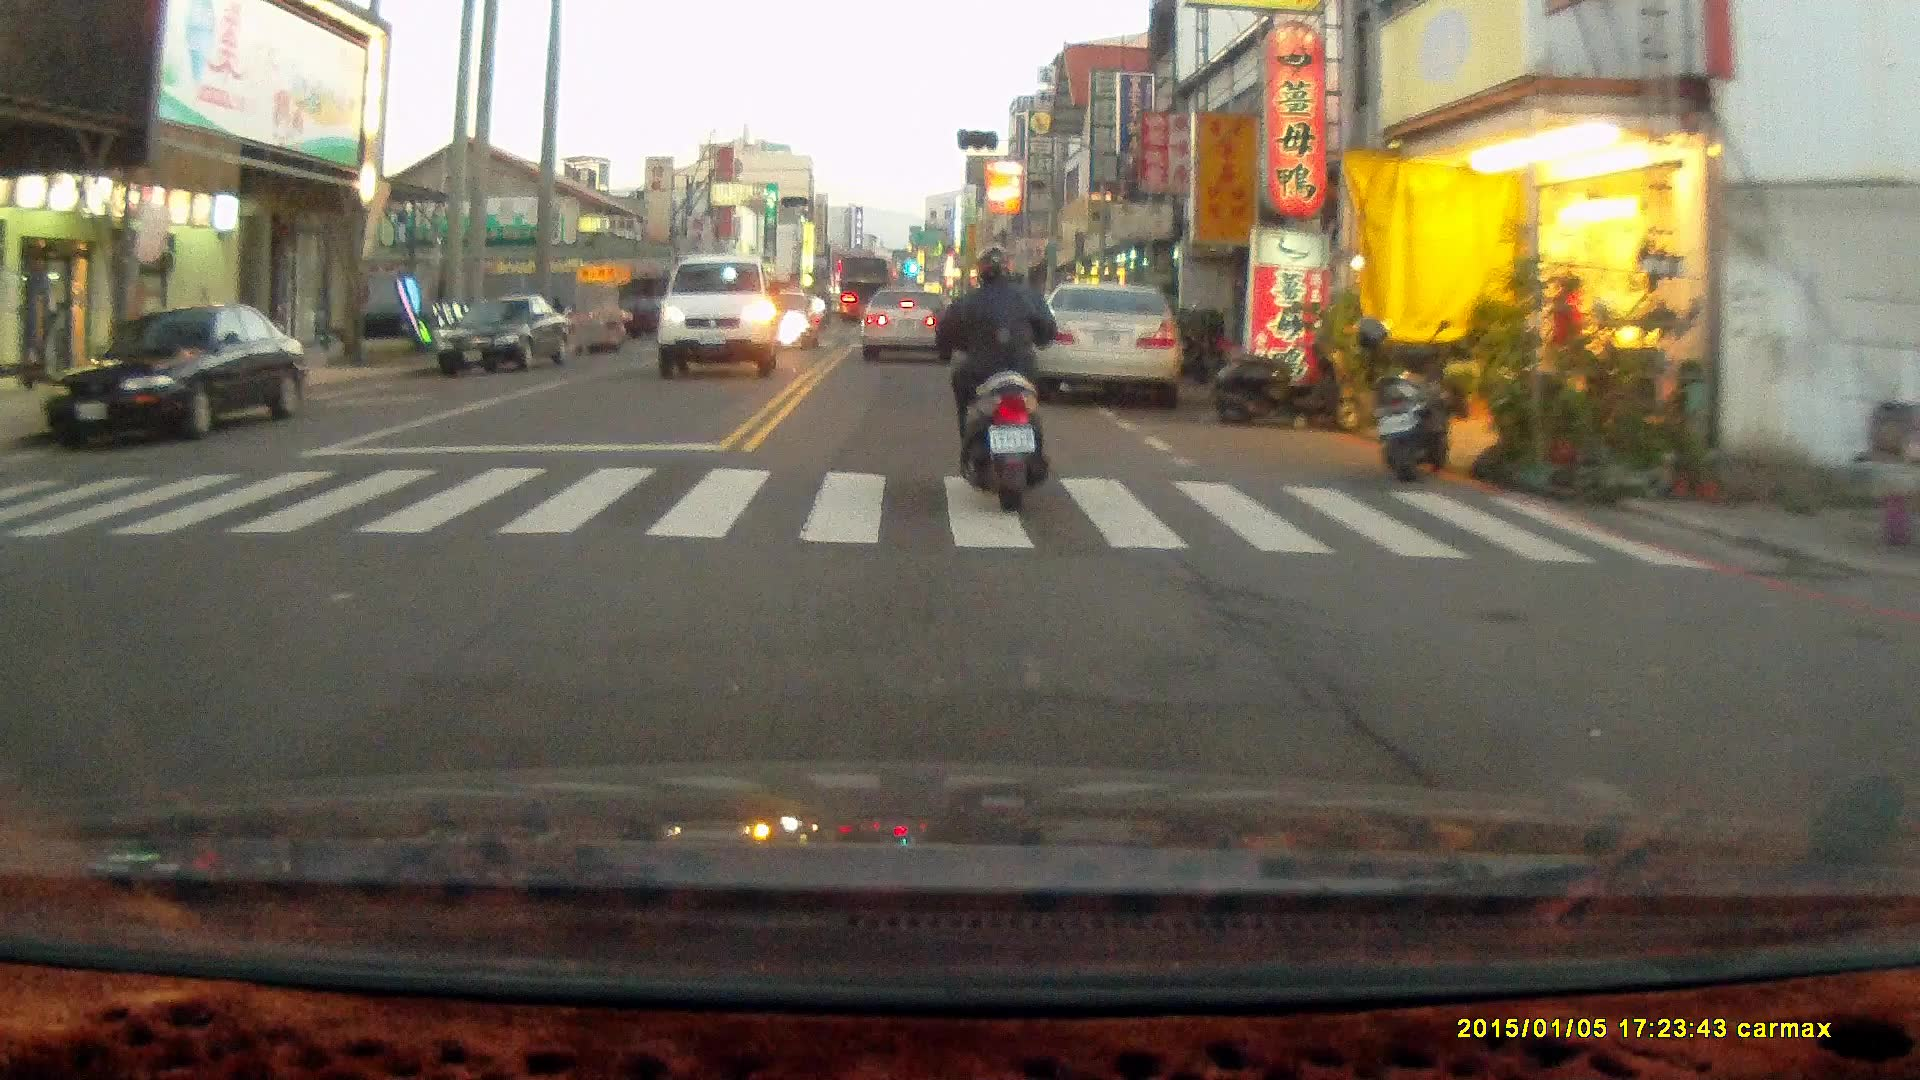pedestrian: (1553, 271, 1592, 403)
rider: (930, 241, 1056, 512)
vehicle: (57, 307, 307, 450), (1034, 281, 1185, 410), (658, 257, 783, 384), (435, 294, 576, 379), (857, 285, 955, 362)
